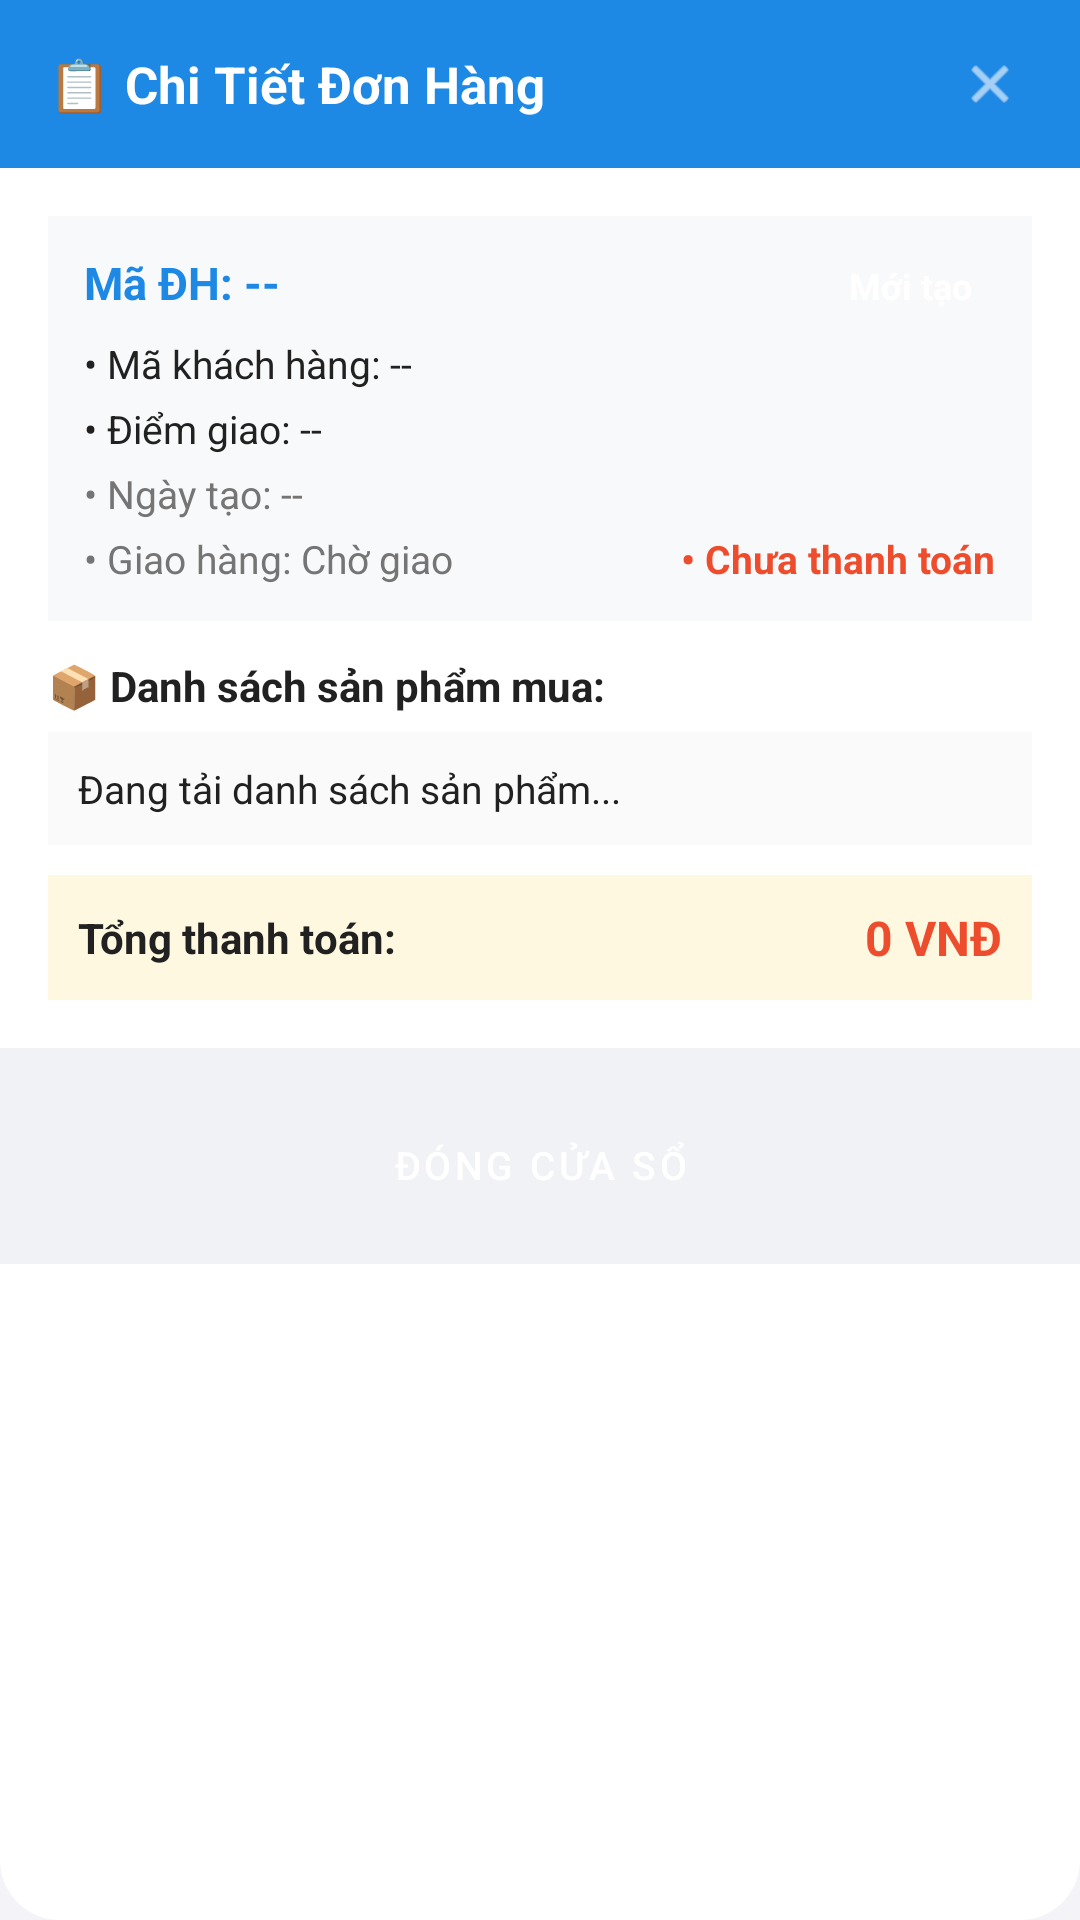

Screen size 1080x1920. Icon name, then its box in pixels as (x1, y1, x2, y2):
Đóng: (971, 65, 1009, 103)
